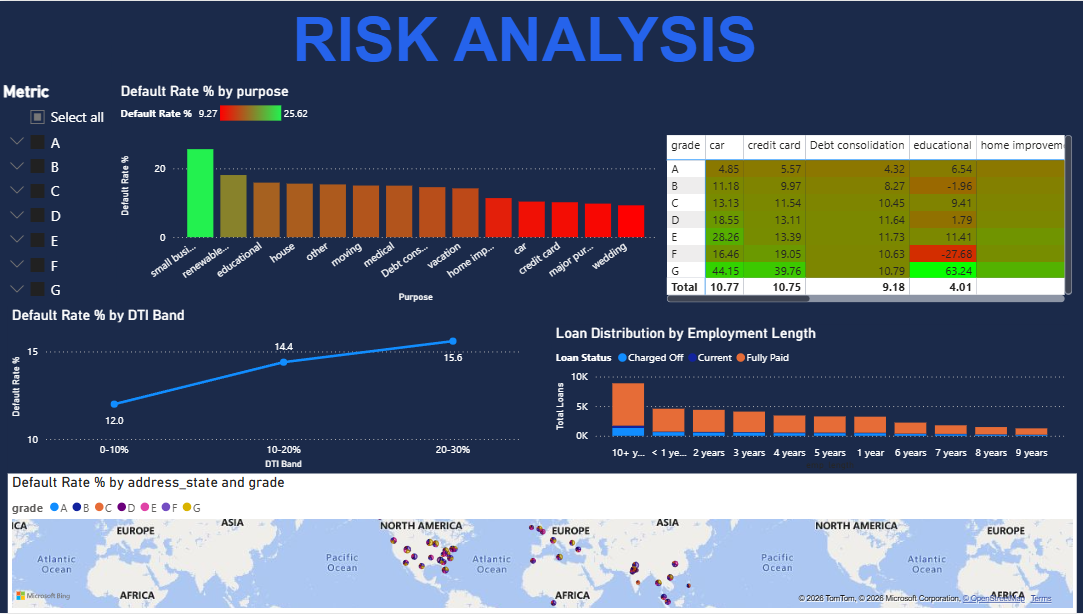

Layout of this report page (visuals, bound fields, positions):
{"tool":"powerbi","page":{"name":"Risk Analysis","canvas":[1280,720],"ordinal":1},"visuals":[{"type":"slicer","title":"Metric","fields":{"Values":["Bank_Loan_DATA.grade","Bank_Loan_DATA.purpose","Bank_Loan_DATA.term","Bank_Loan_DATA.verification_status","Bank_Loan_DATA.emp_length"]},"box":[0,96.3,138.7,348],"z":0},{"type":"clusteredColumnChart","fields":{"Y":["Bank_Loan_DATA.Default Rate %"],"Category":["Bank_Loan_DATA.purpose"]},"box":[138.7,96.3,642.1,263.2],"z":1000},{"type":"pivotTable","fields":{"Rows":["Bank_Loan_DATA.grade"],"Columns":["Bank_Loan_DATA.purpose"],"Values":["Bank_Loan_DATA.Net Return %"]},"box":[780.7,152.8,486.7,206.7],"z":2000},{"type":"lineChart","fields":{"Y":["Bank_Loan_DATA.Default Rate %"],"Category":["Bank_Loan_DATA.DTI Band"]},"box":[10.3,359.6,608.7,196.5],"z":3000},{"type":"columnChart","title":"Loan Distribution by Employment Length","fields":{"Category":["Bank_Loan_DATA.emp_length"],"Y":["CountNonNull(Bank_Loan_DATA.loan_status)"],"Series":["Bank_Loan_DATA.loan_status"]},"box":[650.6,380.5,608.1,175.6],"z":4000},{"type":"map","fields":{"Category":["Bank_Loan_DATA.address_state"],"Size":["Bank_Loan_DATA.Default Rate %"],"Series":["Bank_Loan_DATA.grade"]},"box":[9.9,555.8,1257.9,163.8],"z":5000},{"type":"textbox","box":[132.7,0,972.6,96.8],"z":6000}]}

Visuals, with their boxes in screenshot pixels (x1, y1, x2, y2), scaled from the page's 1280x720 canvas onto the 1083x614 screenshot:
"Metric" slicer: [0,82,117,379]
clusteredColumnChart - Bank_Loan_DATA.Default Rate % x Bank_Loan_DATA.purpose: [117,82,661,307]
pivotTable - Bank_Loan_DATA.grade x Bank_Loan_DATA.purpose: [661,130,1072,307]
lineChart - Bank_Loan_DATA.Default Rate % x Bank_Loan_DATA.DTI Band: [9,307,524,474]
"Loan Distribution by Employment Length" columnChart: [550,324,1065,474]
map - Bank_Loan_DATA.address_state x Bank_Loan_DATA.Default Rate %: [8,474,1073,613]
textbox: [112,0,935,83]
